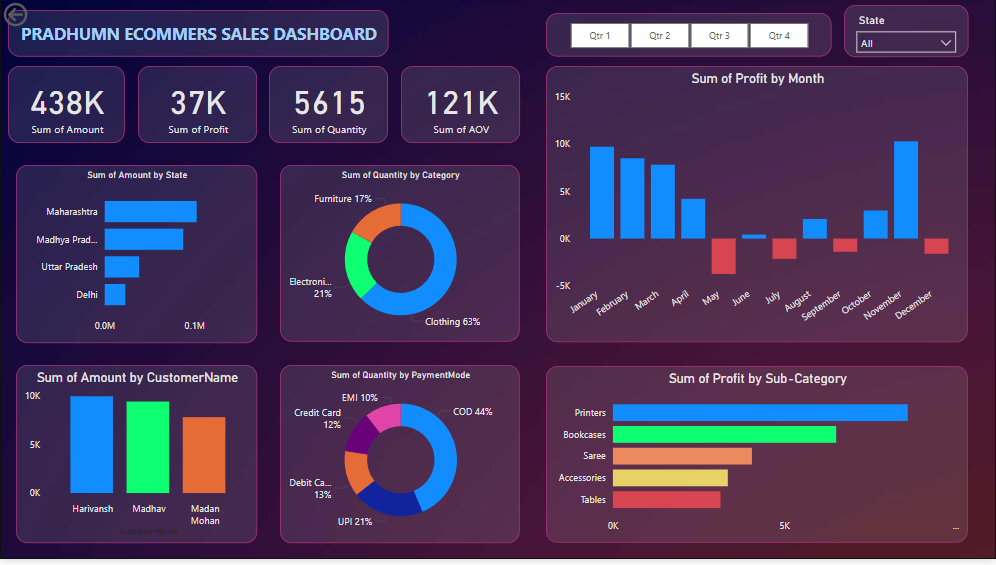

What the dashboard file says about the page in this screenshot:
{"tool":"powerbi","page":{"name":"Page 1","canvas":[1280,720],"ordinal":0},"visuals":[{"type":"textbox","box":[10,14.3,488.6,60],"z":0},{"type":"columnChart","fields":{"Category":["Orders.Order Date.Variation.Date Hierarchy.Month"],"Y":["Sum(Details.Profit)"]},"box":[701.7,86.1,542.3,354.7],"z":1000},{"type":"barChart","fields":{"Category":["Details.Sub-Category"],"Y":["Sum(Details.Profit)"]},"box":[701.7,471.6,542.3,227.5],"z":2000},{"type":"donutChart","fields":{"Category":["Details.Category"],"Y":["Sum(Details.Quantity)"]},"box":[359.8,213.3,308.4,227.5],"z":3000},{"type":"donutChart","fields":{"Category":["Details.PaymentMode"],"Y":["Sum(Details.Quantity)"]},"box":[359.8,470.4,308.4,228.8],"z":4000},{"type":"card","fields":{"Values":["Sum(Details.Amount)"]},"box":[10.3,86.1,150.4,99],"z":5000},{"type":"card","fields":{"Values":["Sum(Details.Profit)"]},"box":[177.3,86.1,152.9,99],"z":6000},{"type":"card","fields":{"Values":["Sum(Details.Quantity)"]},"box":[345.7,86.1,152.9,99],"z":7000},{"type":"card","fields":{"Values":["Sum(Details.AOV)"]},"box":[515.3,86.1,152.9,99],"z":8000},{"type":"barChart","fields":{"Category":["Orders.State","Details.Sub-Category"],"Y":["Sum(Details.Amount)"]},"box":[20,212.9,310,228.6],"z":9000},{"type":"columnChart","fields":{"Category":["Orders.CustomerName"],"Y":["Sum(Details.Amount)"]},"box":[20,470,310,228.6],"z":10000},{"type":"slicer","fields":{"Values":["Orders.Order Date.Variation.Date Hierarchy.Quarter"]},"box":[701.4,18.6,367.1,55.7],"z":11000},{"type":"slicer","fields":{"Values":["Orders.State"]},"box":[1084.3,7.1,160,67.1],"z":12000},{"type":"actionButton","box":[0,0,100,40],"z":13000}]}

Visuals, with their boxes in screenshot pixels (x1, y1, x2, y2), scaled from the page's 1280x720 canvas onto the 996x565 screenshot:
textbox: [8, 11, 388, 58]
columnChart - Orders.Order Date.Variation.Date Hierarchy.Month x Sum(Details.Profit): [546, 68, 968, 346]
barChart - Details.Sub-Category x Sum(Details.Profit): [546, 370, 968, 549]
donutChart - Details.Category x Sum(Details.Quantity): [280, 167, 520, 346]
donutChart - Details.PaymentMode x Sum(Details.Quantity): [280, 369, 520, 549]
card - Sum(Details.Amount): [8, 68, 125, 145]
card - Sum(Details.Profit): [138, 68, 257, 145]
card - Sum(Details.Quantity): [269, 68, 388, 145]
card - Sum(Details.AOV): [401, 68, 520, 145]
barChart - Orders.State x Details.Sub-Category: [16, 167, 257, 346]
columnChart - Orders.CustomerName x Sum(Details.Amount): [16, 369, 257, 548]
slicer - Orders.Order Date.Variation.Date Hierarchy.Quarter: [546, 15, 831, 58]
slicer - Orders.State: [844, 6, 968, 58]
actionButton: [0, 0, 78, 31]
